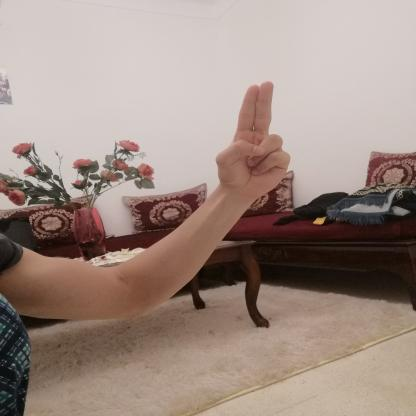TA: (207, 72, 301, 204)
